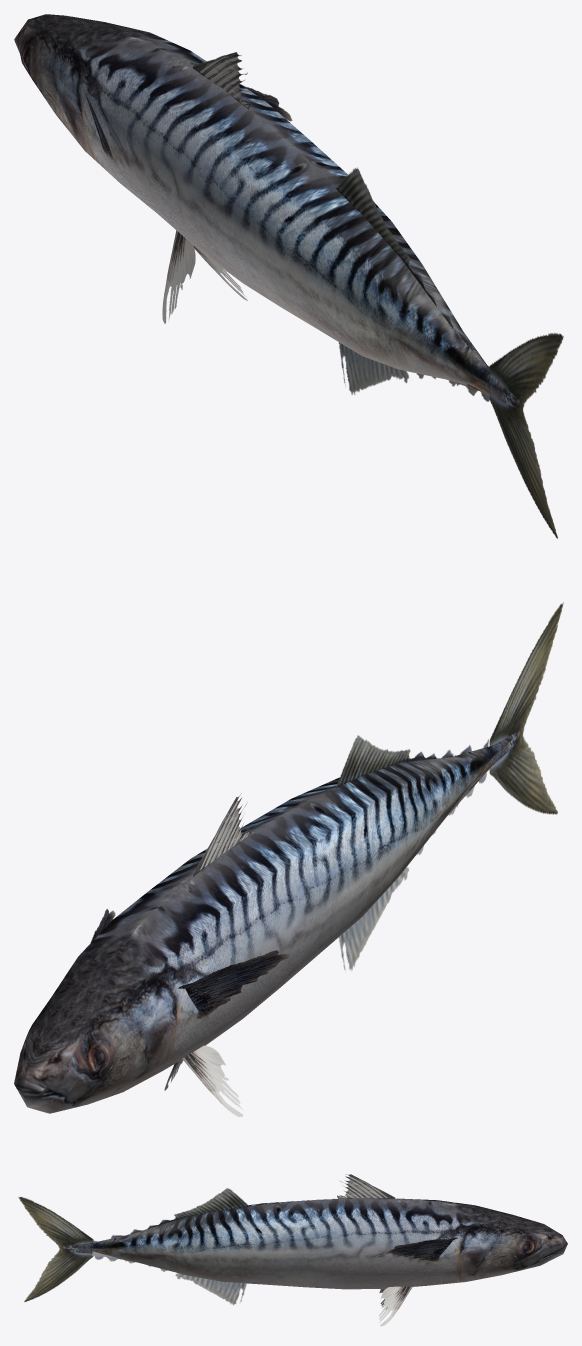
The model's file is atlantic_mackerel.glb.
3 views of the same model, one above another, from view 1: azimuth 30°, elevation 25°; view 2: azimuth 150°, elevation 25°; view 3: azimuth 270°, elevation 25° (orthographic). The views are drawn at different scales.
Visible parts, largest first — view 1: scumbr; view 2: scumbr; view 3: scumbr.
Boxes of the visible parts, left/top/right/bottom form: scumbr: left=14, top=14, right=563, bottom=538; scumbr: left=14, top=602, right=563, bottom=1116; scumbr: left=18, top=1174, right=567, bottom=1326.
Bounding box in the file's own units: 701 × 1056 × 3512.
Materials: 1 (1 with a texture image).
